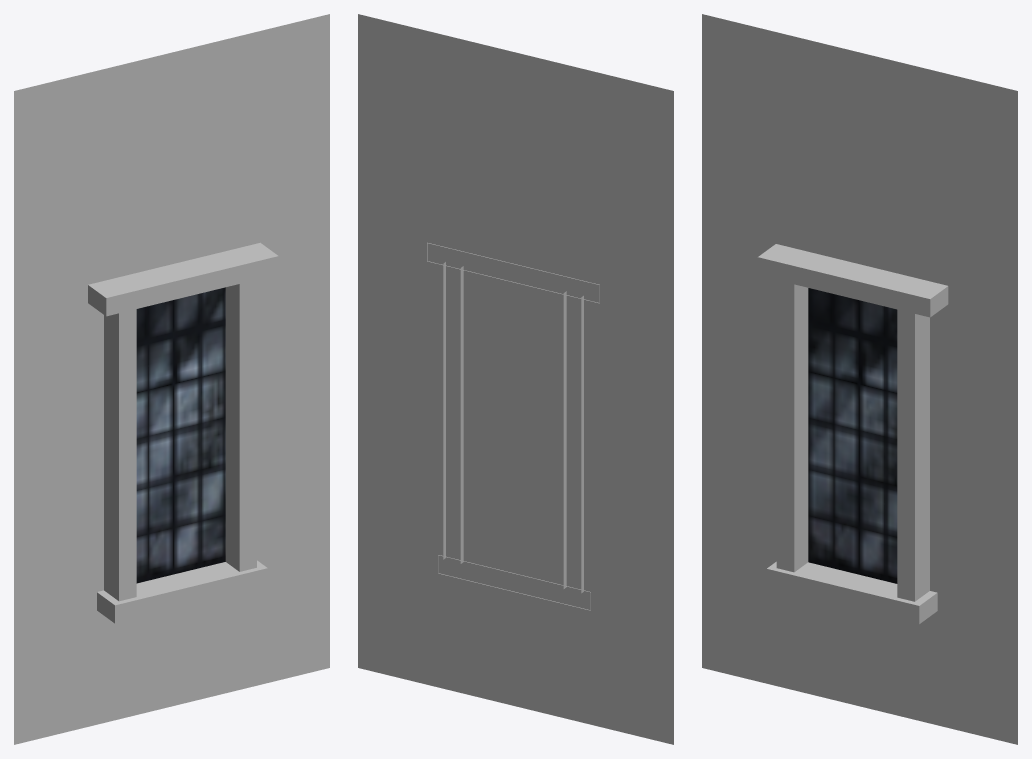
The model's file is SM_zhucheng_qiang03.FBX.
3 views of the same model, side by side, from view 1: azimuth 30°, elevation 25°; view 2: azimuth 150°, elevation 25°; view 3: azimuth 330°, elevation 25° (orthographic).
Visible parts, largest first — view 1: SM_zhucheng_qiang03a, SM_zhucheng_qiang03b; view 2: SM_zhucheng_qiang03a; view 3: SM_zhucheng_qiang03a, SM_zhucheng_qiang03b.
Part boxes in pixels (x1,y1,x2,y2): SM_zhucheng_qiang03a: [14, 14, 329, 744]; SM_zhucheng_qiang03b: [136, 287, 225, 583]; SM_zhucheng_qiang03a: [358, 14, 673, 744]; SM_zhucheng_qiang03a: [702, 14, 1017, 744]; SM_zhucheng_qiang03b: [808, 288, 897, 583].
Size of the model in its own units: 357 by 706 by 41.02.
